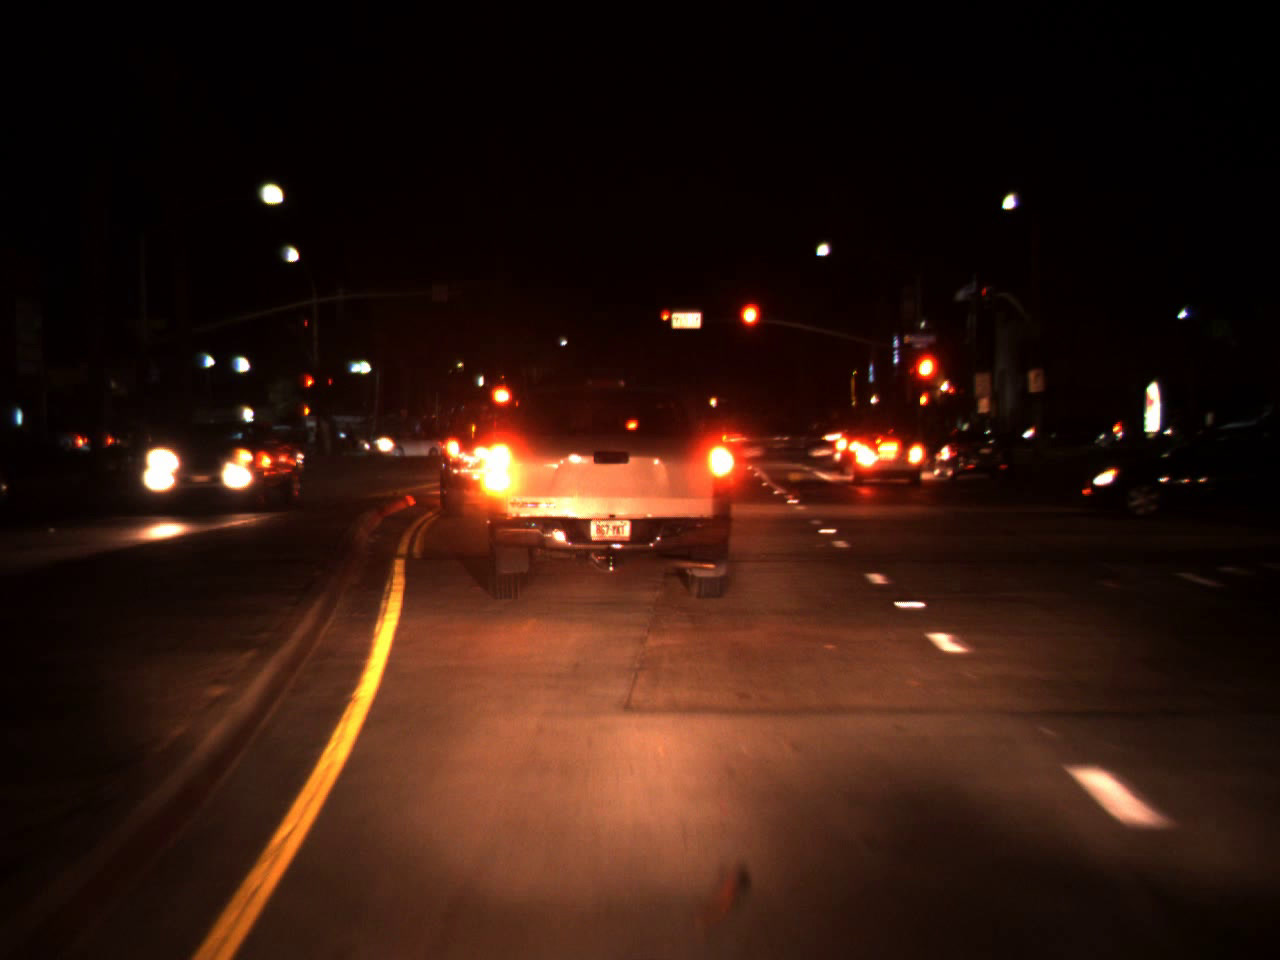stop: (910, 348, 941, 415), (736, 298, 764, 357), (304, 373, 316, 400), (660, 310, 672, 326)
